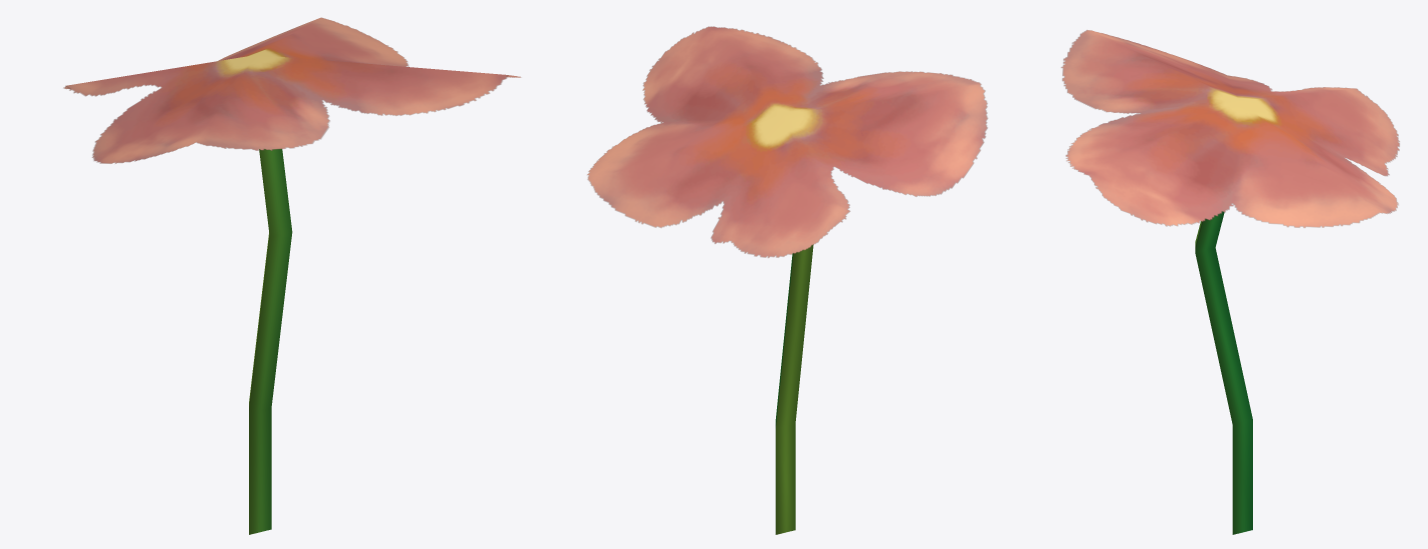
File: flower.glb
The picture shows the model from 3 angles, left to right: view 1: azimuth 30°, elevation 25°; view 2: azimuth 150°, elevation 25°; view 3: azimuth 270°, elevation 25°; orthographic projection. The views are drawn at different scales.
Visible parts, largest first — view 1: Flower; view 2: Flower; view 3: Flower.
Part boxes in pixels (<box>): Flower: <box>63,17,520,534</box>; Flower: <box>587,26,987,534</box>; Flower: <box>1061,30,1399,534</box>.
Bounding box in the file's own units: 0.2205 × 0.2484 × 0.1848.
1 material, 1 textured.
